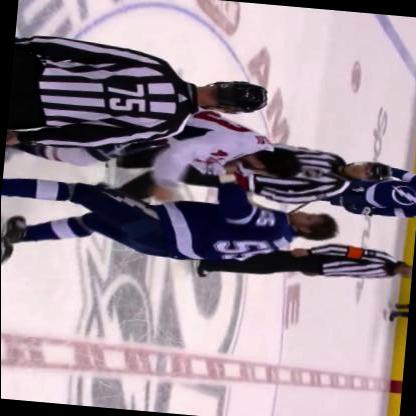non-Voilence: (195, 229, 413, 296)
voilence: (1, 92, 348, 276)
